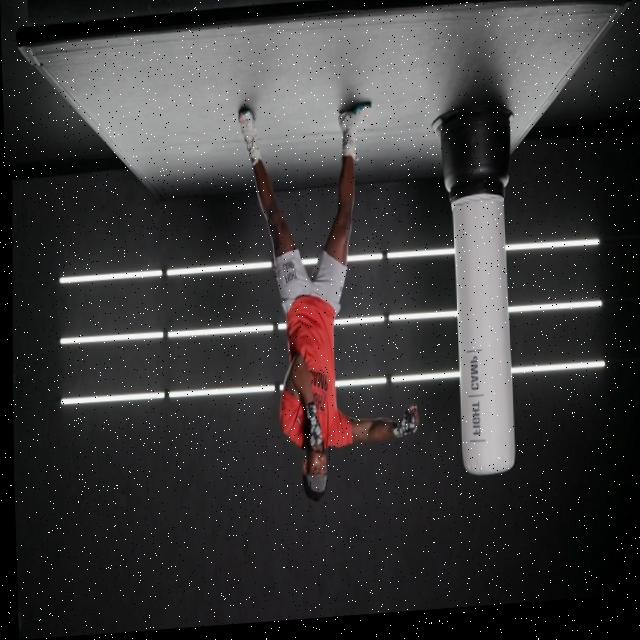Jab: (229, 95, 428, 466)
